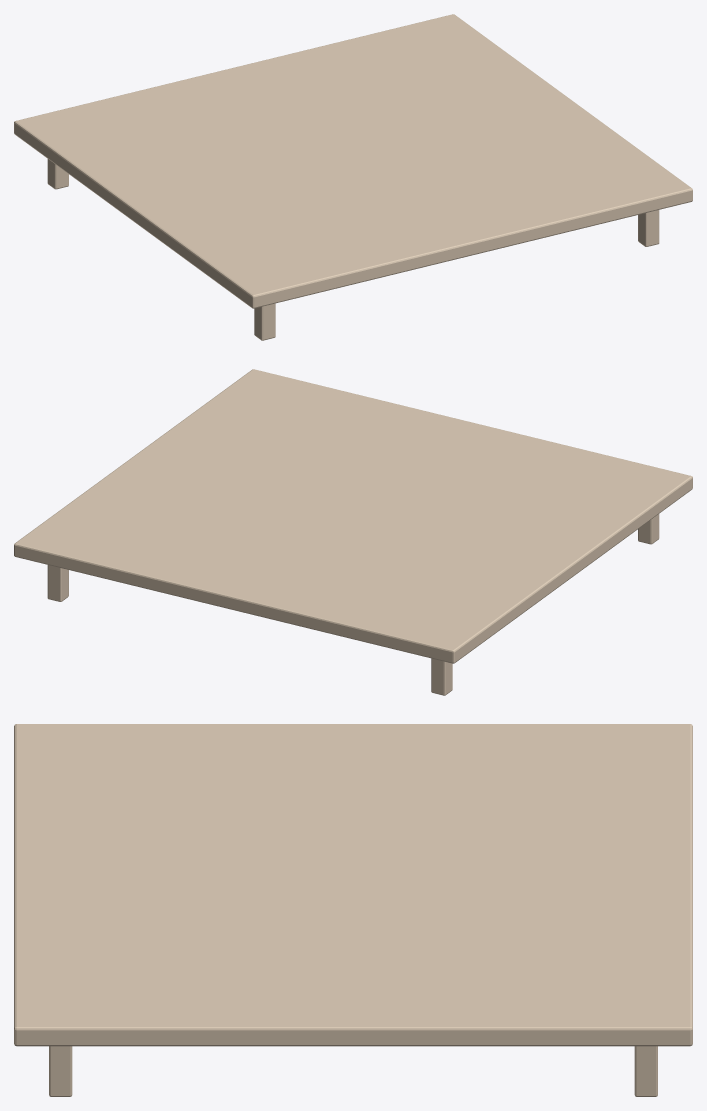
File: Table.fbx
The picture shows the model from 3 angles, top to bottom: view 1: azimuth 30°, elevation 25°; view 2: azimuth 150°, elevation 25°; view 3: azimuth 270°, elevation 25°; orthographic projection. The views are drawn at different scales.
Visible parts, largest first — view 1: Table; view 2: Table; view 3: Table.
Boxes of the visible parts, x1,y1,x2,y2 form: Table: (14,14,692,340); Table: (14,369,692,695); Table: (14,724,692,1096).
Bounding box in the file's own units: 1700 × 220 × 1600.
